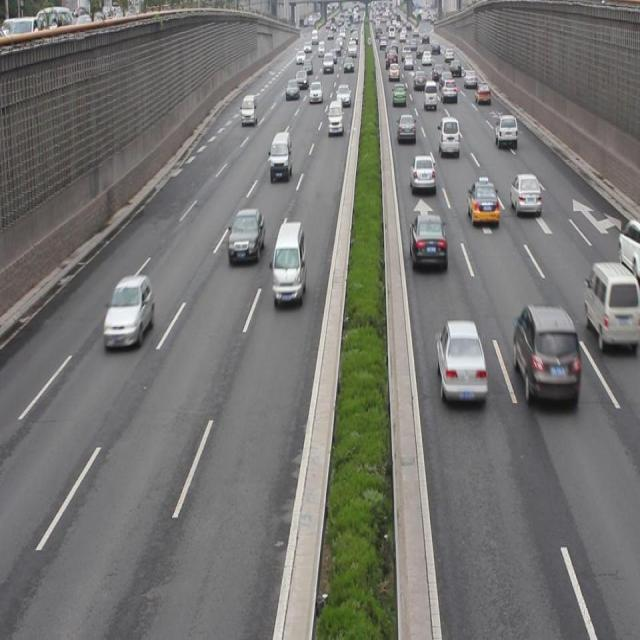car: (512, 306, 579, 405), (436, 317, 486, 406), (102, 276, 154, 352), (226, 206, 266, 268), (409, 213, 446, 273), (466, 178, 498, 224), (508, 172, 539, 214), (409, 156, 435, 197), (494, 114, 516, 150), (396, 115, 414, 140)
truck: (582, 260, 640, 352), (270, 219, 306, 305), (268, 131, 293, 182), (438, 114, 459, 160), (327, 99, 342, 134), (240, 95, 256, 127)
